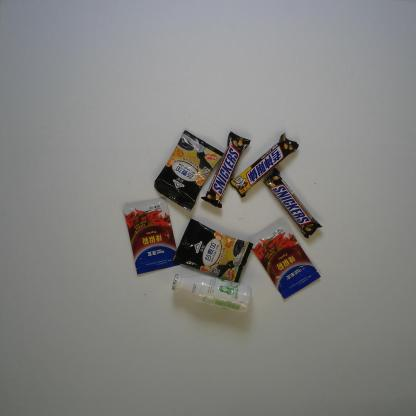Chocolate: (229, 132, 300, 199), (262, 166, 324, 240), (200, 130, 252, 209)
Instant Drink: (153, 130, 224, 212), (172, 217, 254, 283)
Milk: (171, 273, 253, 313)
Seasoner: (250, 219, 322, 300), (123, 196, 183, 276)
